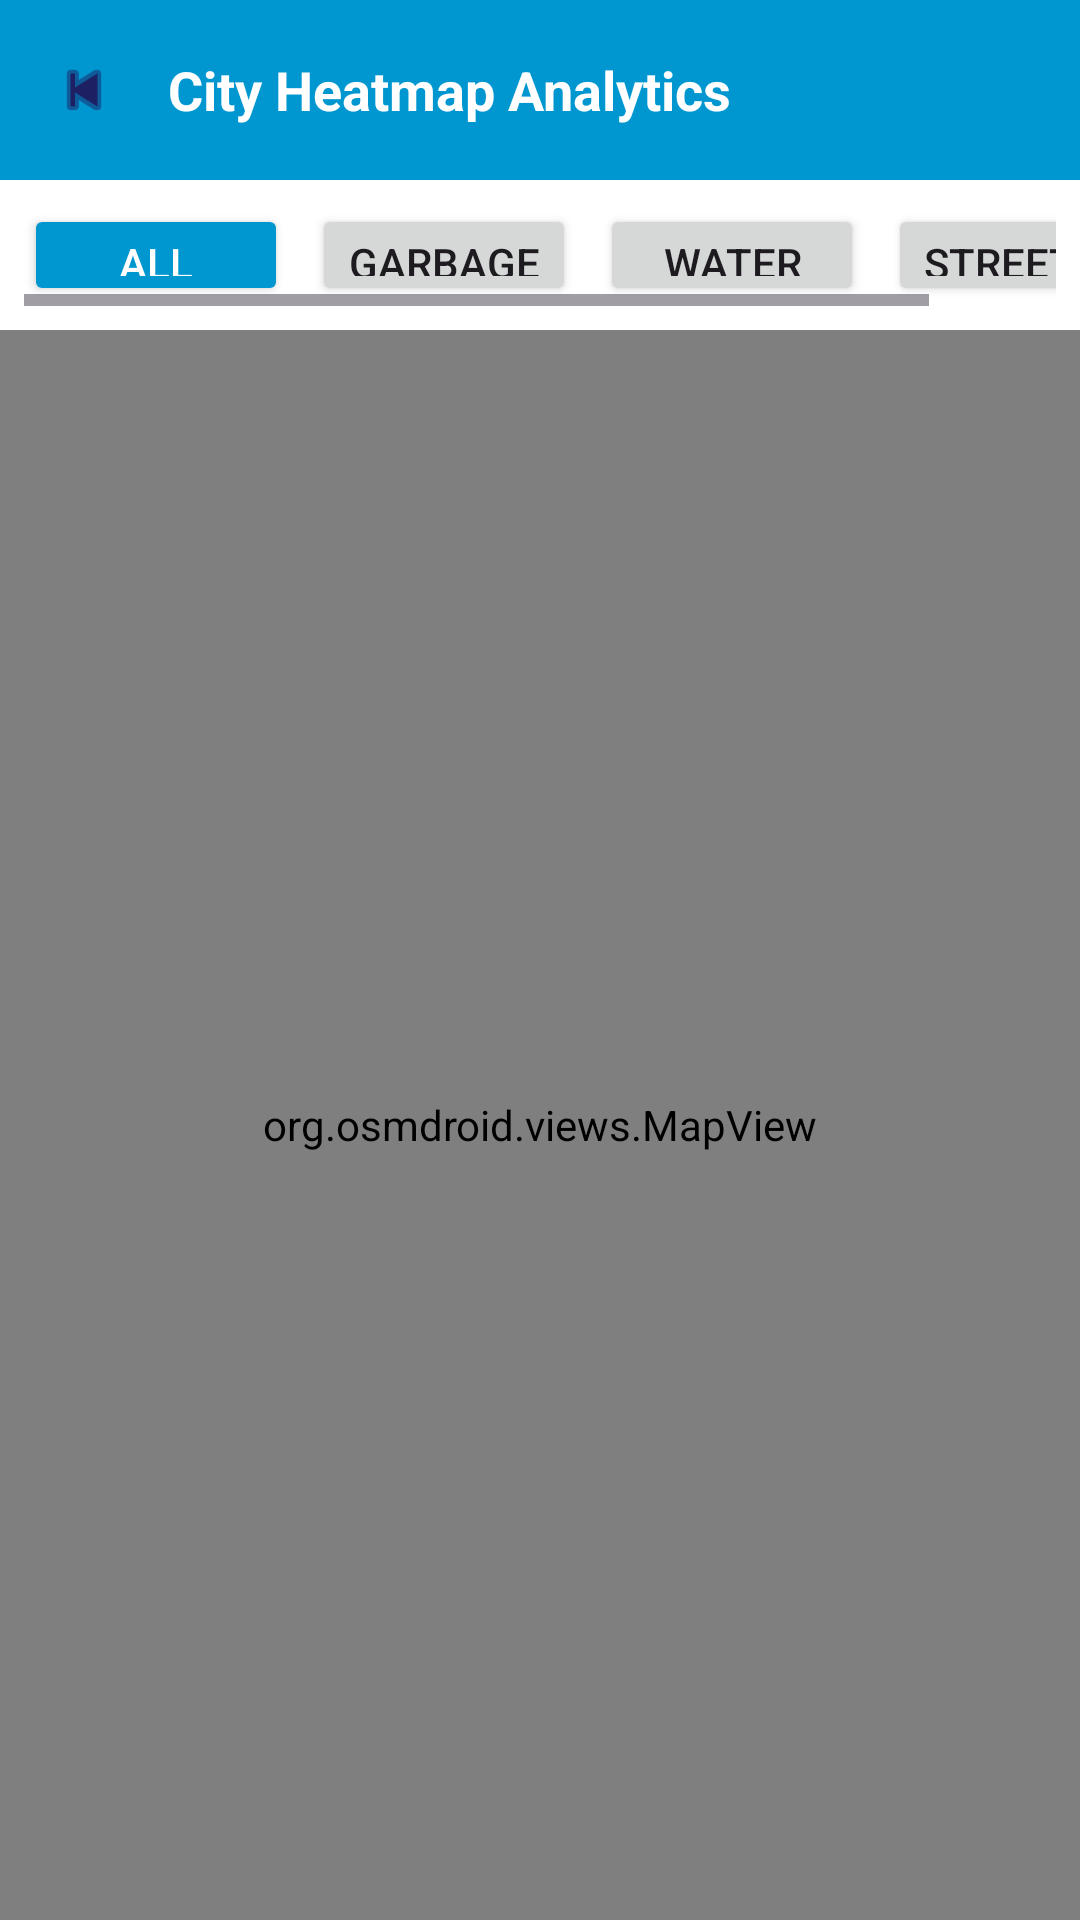

Icons on this 1080 × 1920 Android screen, each with its box as (x1, y1, x2, y2):
previous: (67, 70, 101, 110)
